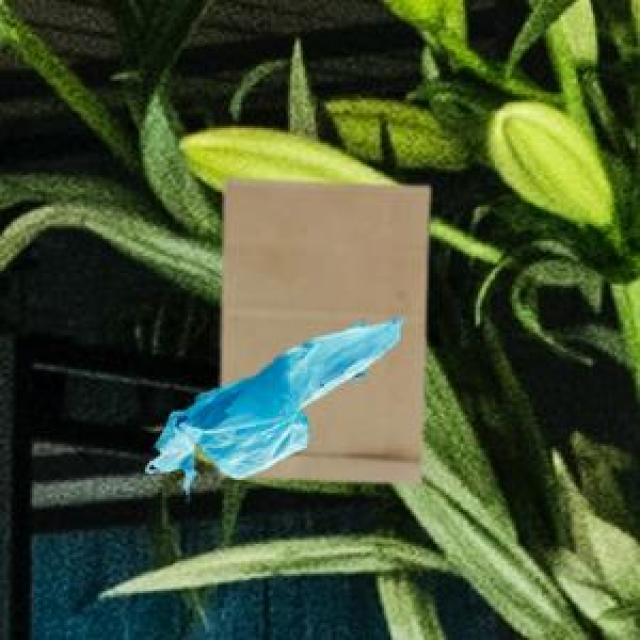paper: (218, 175, 425, 478)
